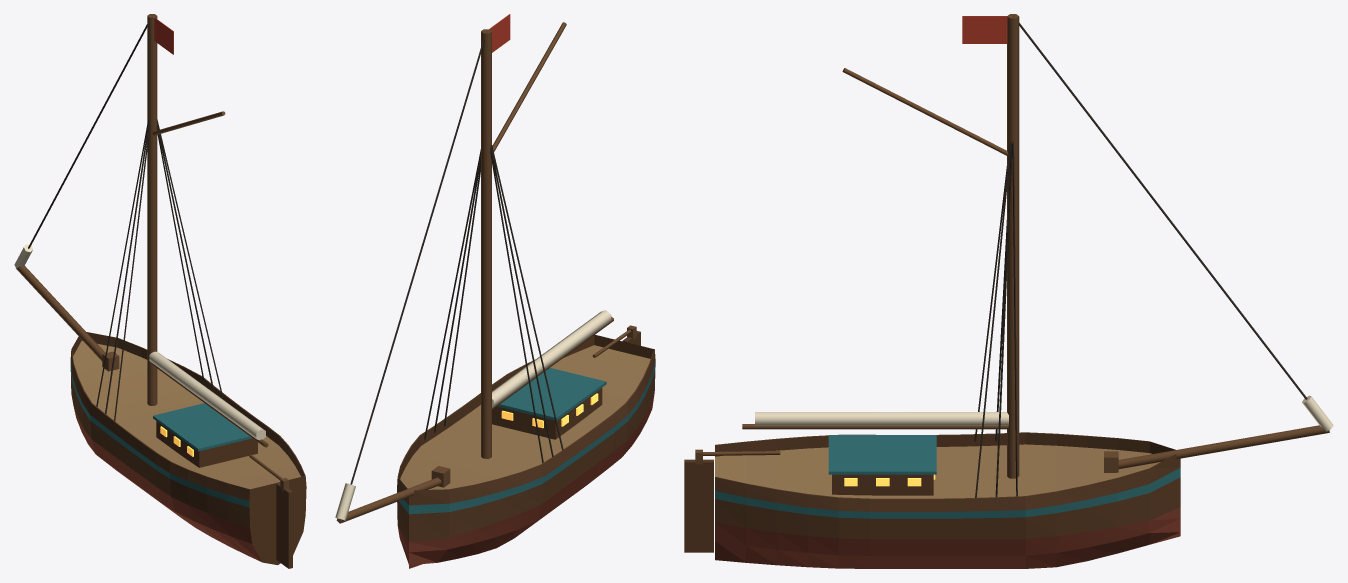
File: sawyer_ship_sloop_furled.glb
3 renders of one model, left to right at view 1: azimuth 30°, elevation 25°; view 2: azimuth 150°, elevation 25°; view 3: azimuth 270°, elevation 25°, orthographic. The views are drawn at different scales.
Visible parts, largest first — view 1: hull, mast0, cabin_roof, furl_main0, cabin, rudder, bowsprit, shroud0_-1_0, shroud0_-1_1, forestay, shroud0_1_0, shroud0_-1_-1 (+3 smaller); view 2: hull, mast0, cabin_roof, furl_main0, cabin, forestay, bowsprit, gaff0, shroud0_-1_0, shroud0_-1_-1, shroud0_-1_1, shroud0_1_-1 (+4 smaller); view 3: hull, mast0, cabin_roof, furl_main0, rudder, bowsprit, cabin, boom0, flag0, forestay, gaff0, shroud0_1_0 (+2 smaller).
Part boxes in pixels (bbox=[...]): hull: bbox=[70, 332, 306, 565]; mast0: bbox=[147, 14, 157, 405]; cabin_roof: bbox=[153, 403, 251, 451]; furl_main0: bbox=[149, 351, 265, 440]; cabin: bbox=[156, 421, 257, 467]; rudder: bbox=[276, 483, 292, 568]; bowsprit: bbox=[16, 265, 105, 361]; shroud0_-1_0: bbox=[105, 119, 148, 413]; shroud0_-1_1: bbox=[114, 121, 150, 420]; forestay: bbox=[28, 15, 152, 248]; shroud0_1_0: bbox=[157, 125, 214, 392]; shroud0_-1_-1: bbox=[96, 120, 148, 406]; hull: bbox=[397, 335, 655, 568]; mast0: bbox=[481, 29, 491, 458]; cabin_roof: bbox=[497, 368, 606, 420]; furl_main0: bbox=[492, 310, 611, 407]; cabin: bbox=[492, 388, 602, 439]; forestay: bbox=[350, 31, 486, 484]; bowsprit: bbox=[336, 477, 441, 523]; gaff0: bbox=[492, 22, 566, 151]; shroud0_-1_0: bbox=[491, 144, 553, 456]; shroud0_-1_-1: bbox=[490, 146, 543, 462]; shroud0_-1_1: bbox=[491, 145, 563, 450]; shroud0_1_-1: bbox=[424, 149, 480, 440]; hull: bbox=[715, 432, 1180, 568]; mast0: bbox=[1007, 14, 1019, 478]; cabin_roof: bbox=[828, 435, 936, 474]; furl_main0: bbox=[755, 412, 1008, 425]; rudder: bbox=[684, 459, 713, 552]; bowsprit: bbox=[1118, 425, 1329, 469]; cabin: bbox=[832, 474, 933, 495]; boom0: bbox=[742, 424, 1008, 429]; flag0: bbox=[962, 16, 1012, 43]; forestay: bbox=[1013, 15, 1307, 399]; gaff0: bbox=[842, 68, 1008, 155]; shroud0_1_0: bbox=[995, 140, 1012, 497].
Size of the model in its own units: 3.71 by 14.16 by 15.34.
